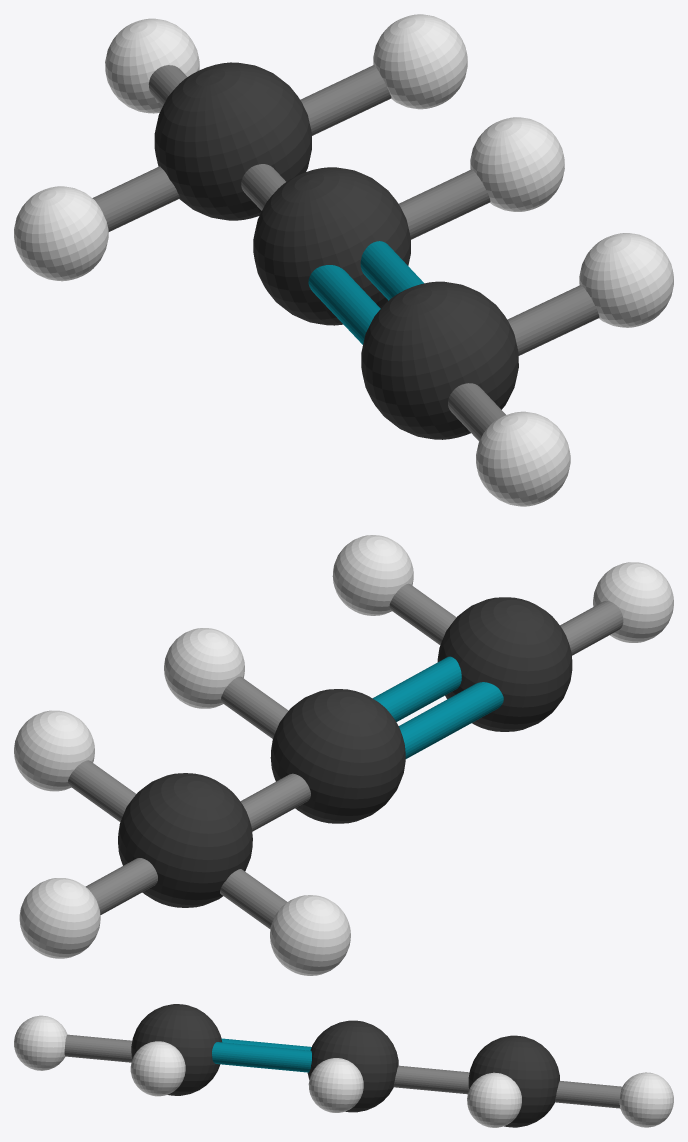
The model's file is propene.fbx.
3 renders of one model, top to bottom at view 1: azimuth 30°, elevation 25°; view 2: azimuth 150°, elevation 25°; view 3: azimuth 270°, elevation 25°, orthographic. The views are drawn at different scales.
Visible parts, largest first — view 1: Sphere.005; view 2: Sphere.005; view 3: Sphere.005.
Boxes of the visible parts, x1=… form: Sphere.005: x1=14, y1=14, x2=673, y2=506; Sphere.005: x1=14, y1=535, x2=673, y2=975; Sphere.005: x1=14, y1=1004, x2=673, y2=1127.
Size of the model in its own units: 600 by 297 by 1435.
